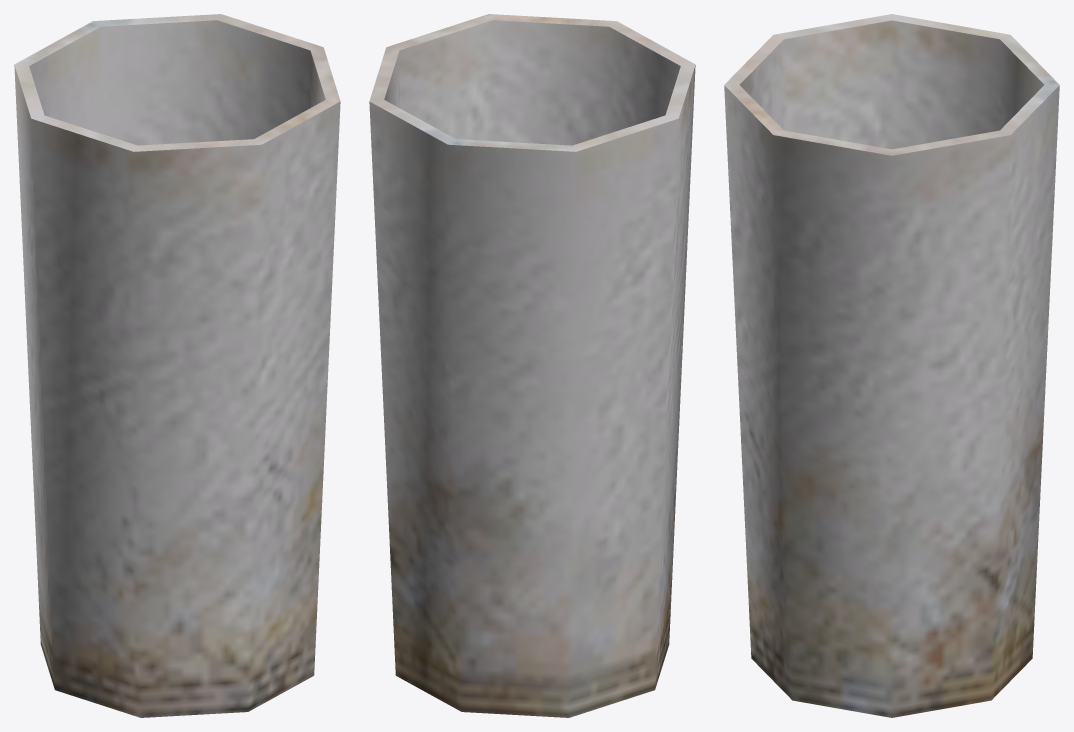
The model's file is edb_con_tato_cup_s1_l0.fbx.
3 renders of one model, left to right at view 1: azimuth 30°, elevation 25°; view 2: azimuth 150°, elevation 25°; view 3: azimuth 270°, elevation 25°, orthographic.
Parts seen in each view (by area): view 1: mesh_node; view 2: mesh_node; view 3: mesh_node.
Boxes of the visible parts, box(x1,y1,x2,y2) form: mesh_node: box(14, 14, 340, 717); mesh_node: box(369, 14, 695, 717); mesh_node: box(724, 14, 1059, 717).
Bounding box in the file's own units: 0.1193 × 0.225 × 0.1193.
